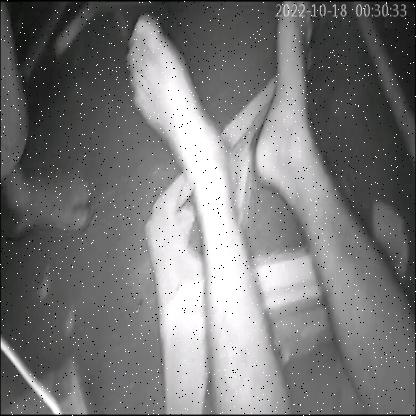leg: (122, 9, 288, 416), (254, 3, 416, 416), (6, 160, 98, 245)
